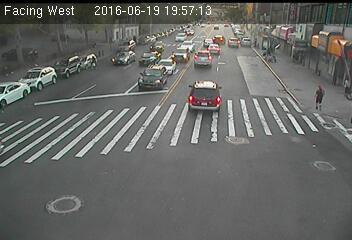neg: (331, 62, 346, 82), (263, 45, 277, 63)
pos: (308, 80, 333, 113)
